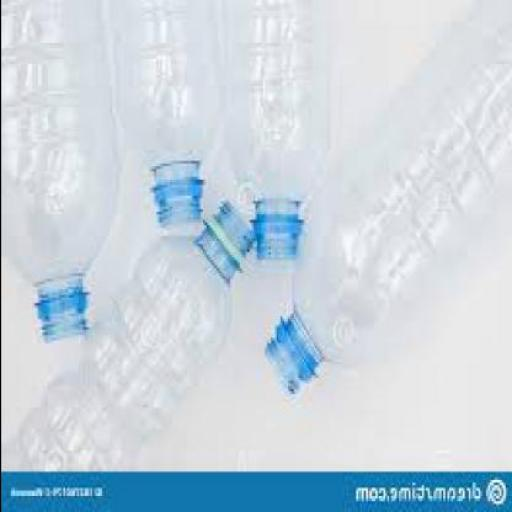metal: (260, 0, 510, 394), (2, 201, 252, 470), (1, 0, 112, 337), (213, 0, 325, 261), (106, 0, 220, 223)
